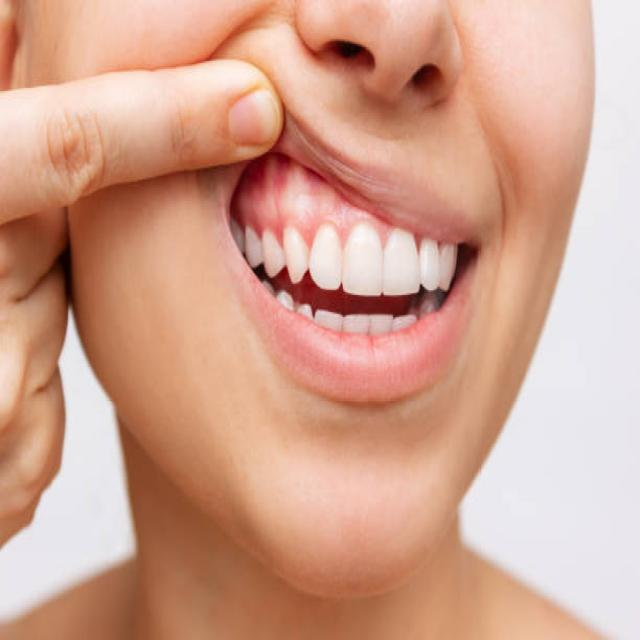tooth: (345, 223, 385, 295), (384, 229, 421, 298), (312, 226, 342, 289), (417, 238, 448, 294), (258, 228, 284, 276), (284, 234, 308, 276), (313, 301, 342, 333), (372, 306, 396, 334), (441, 251, 457, 290), (348, 308, 370, 332), (247, 232, 259, 264), (277, 293, 297, 312), (417, 303, 434, 320), (302, 293, 312, 320), (395, 311, 411, 326)
